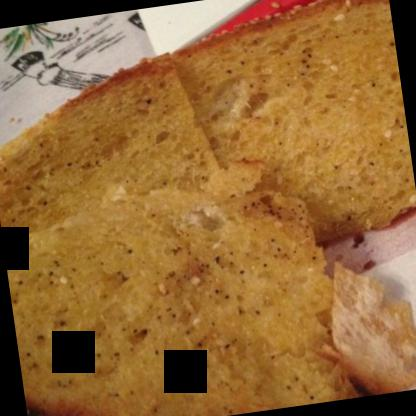toast bread: (0, 173, 357, 415), (160, 0, 415, 264), (0, 47, 227, 246)
